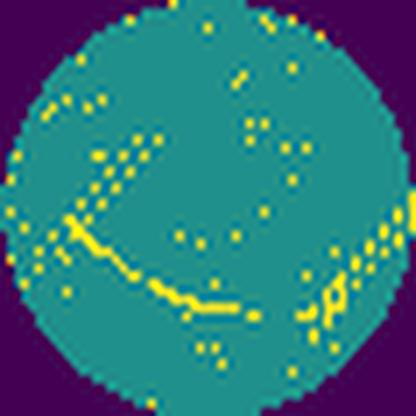Scratch: (63, 212, 247, 318), (293, 192, 416, 347)
